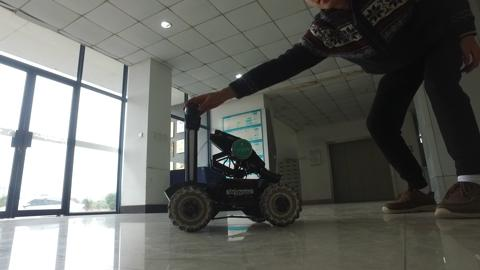chariot: (156, 96, 311, 234)
